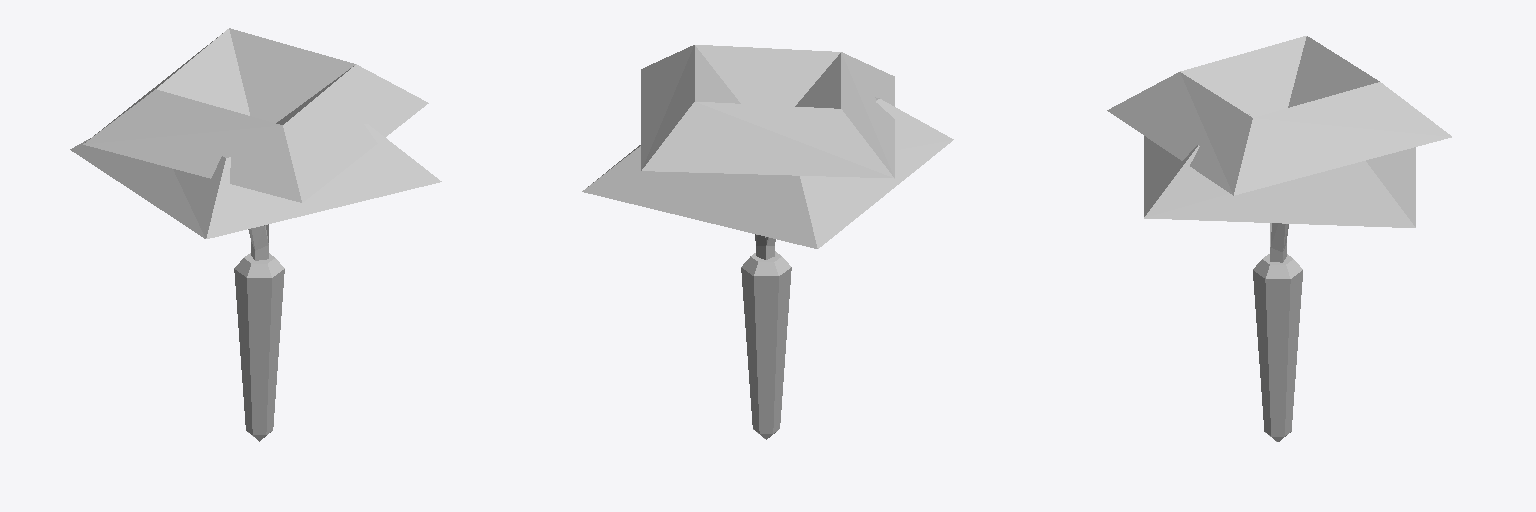
The model's file is SM_Prop_Carrot_01_L.obj.
3 renders of one model, left to right at view 1: azimuth 30°, elevation 25°; view 2: azimuth 150°, elevation 25°; view 3: azimuth 270°, elevation 25°, orthographic.
Size of the model in its own units: 63.48 by 75.07 by 63.48.